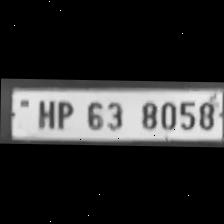0: (157, 96, 177, 128)
3: (102, 97, 128, 128)
5: (175, 97, 195, 128)
6: (79, 98, 105, 130)
8: (134, 98, 160, 130), (194, 98, 218, 130)
H: (31, 96, 55, 128)
P: (52, 96, 76, 128)
